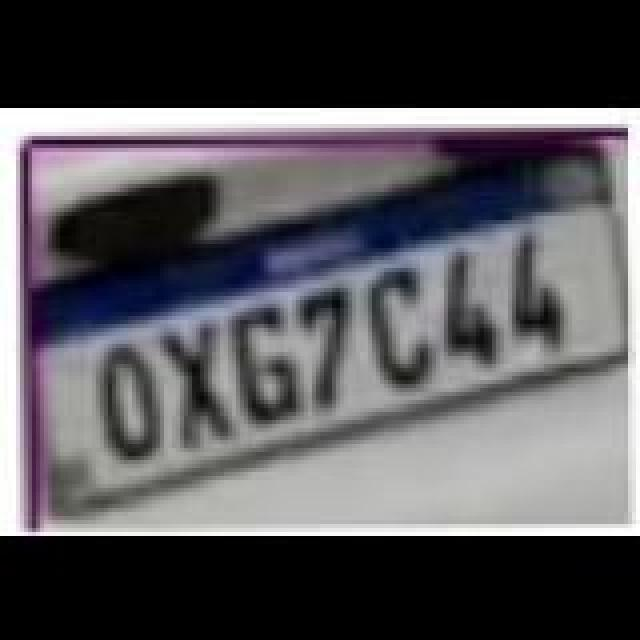4: (444, 250, 500, 366), (512, 230, 568, 346)
7: (298, 284, 358, 404)
C: (372, 264, 436, 384)
G: (234, 304, 302, 424)
O: (100, 342, 164, 458)
X: (162, 320, 238, 448)
